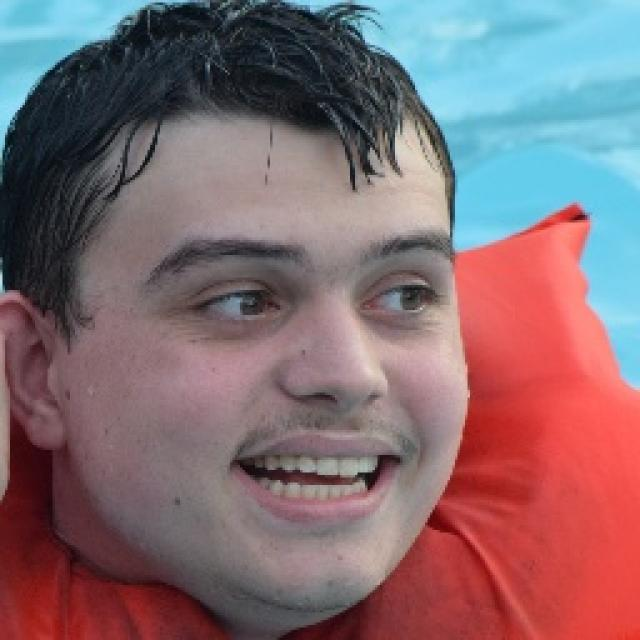earlobe: (28, 396, 73, 456)
eye: (200, 286, 279, 319), (362, 283, 436, 315)
nose: (277, 380, 415, 453)
wholeear: (0, 287, 70, 455)
